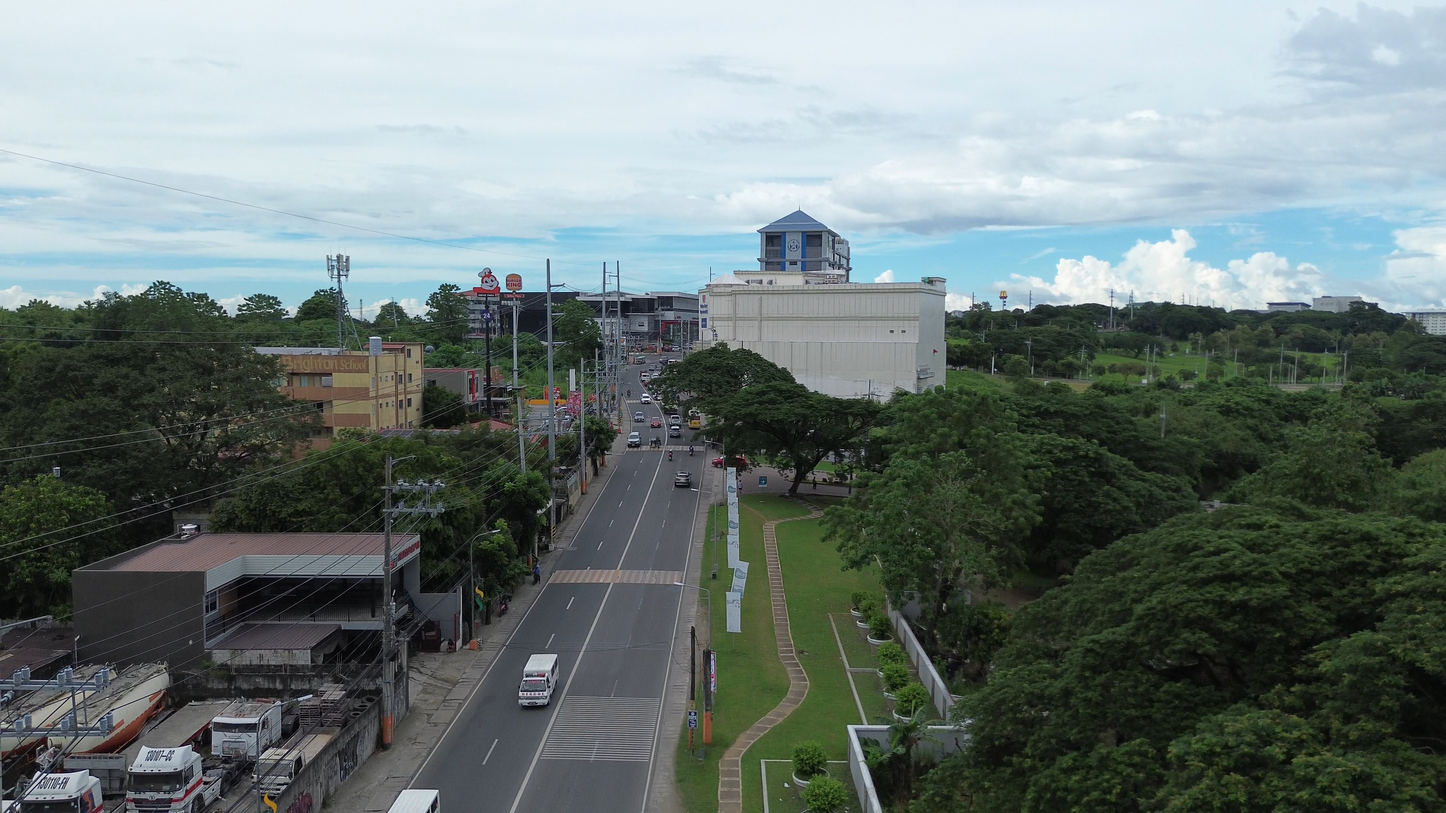car: (729, 455, 748, 468), (649, 417, 662, 428), (633, 411, 645, 422)
vehicle: (125, 745, 229, 813), (253, 732, 334, 797), (211, 701, 284, 760), (15, 770, 103, 813), (519, 654, 558, 706), (388, 789, 439, 813), (727, 455, 748, 469), (674, 471, 691, 487), (688, 410, 701, 430), (627, 431, 641, 447), (669, 424, 681, 437), (650, 436, 662, 447), (668, 414, 680, 424), (633, 354, 645, 364), (640, 393, 651, 403)
